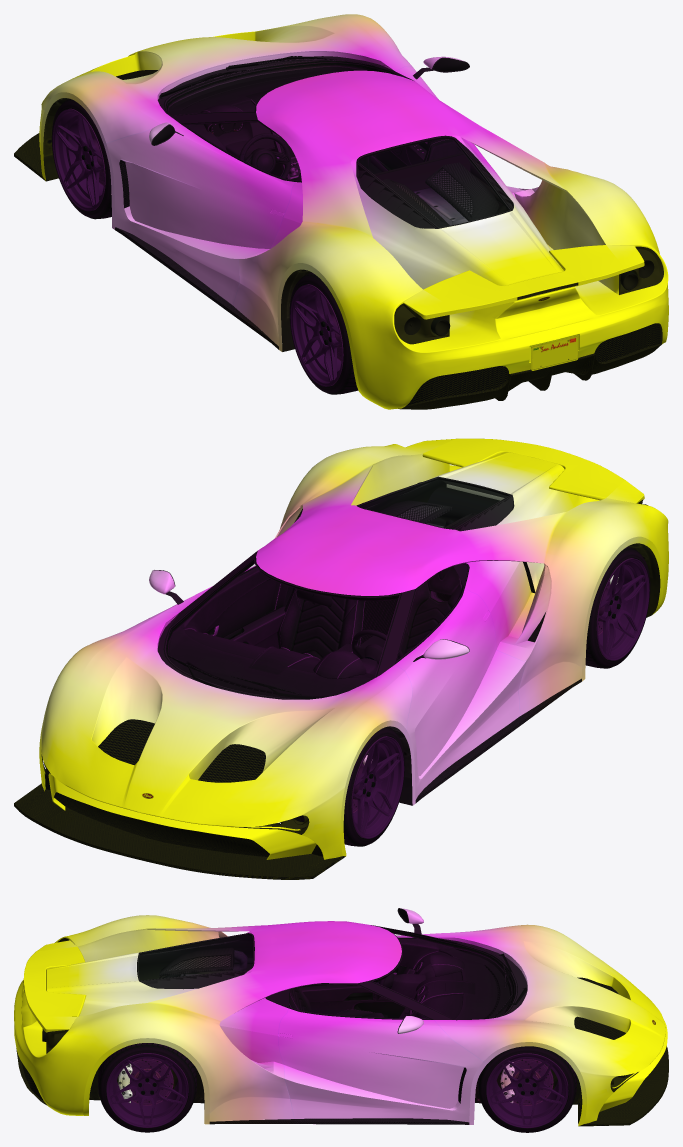
Rendered from fmj.glb.
3 renders of one model, top to bottom at view 1: azimuth 30°, elevation 25°; view 2: azimuth 150°, elevation 25°; view 3: azimuth 270°, elevation 25°, orthographic. The views are drawn at different scales.
Visible parts, largest first — view 1: bodyshell, chassis, door_dside_f, misc_d, wheel_lr, misc_b, wheel_lf, window_lf, door_pside_f, steeringwheel; view 2: bodyshell, chassis, door_dside_f, door_pside_f, wheel_lr, wheel_lf, misc_b, misc_d, misc_c, window_lf, steeringwheel; view 3: bodyshell, chassis, door_pside_f, wheel_rr, wheel_rf, door_dside_f, misc_d, window_rf, misc_b, misc_c.
Boxes of the visible parts, x1,y1,x2,y2 form: bodyshell: (39,14,668,409); chassis: (14,51,662,409); door_dside_f: (104,122,295,309); misc_d: (359,138,508,226); wheel_lr: (289,272,358,394); misc_b: (423,245,625,313); wheel_lf: (51,99,111,219); window_lf: (187,122,299,179); door_pside_f: (370,56,525,191); steeringwheel: (239,133,290,178); bodyshell: (39,439,668,859); chassis: (14,476,660,879); door_dside_f: (395,586,526,805); door_pside_f: (149,565,288,648); wheel_lr: (585,546,650,668); wheel_lf: (299,726,404,846); misc_b: (422,438,624,500); misc_d: (360,479,507,528); misc_c: (48,773,316,859); window_lf: (397,567,462,659); steeringwheel: (352,629,402,664); bodyshell: (14,915,665,1126); chassis: (16,925,668,1126); door_pside_f: (278,1007,486,1124); wheel_rr: (98,1043,197,1132); wheel_rf: (477,1046,576,1132); door_dside_f: (299,908,451,1018); misc_d: (139,934,252,979); window_rf: (289,985,427,1018); misc_b: (23,946,86,1018); misc_c: (599,1020,667,1111).
Size of the model in its own units: 2.06 by 1.06 by 4.67.
18 materials, 18 textured.
